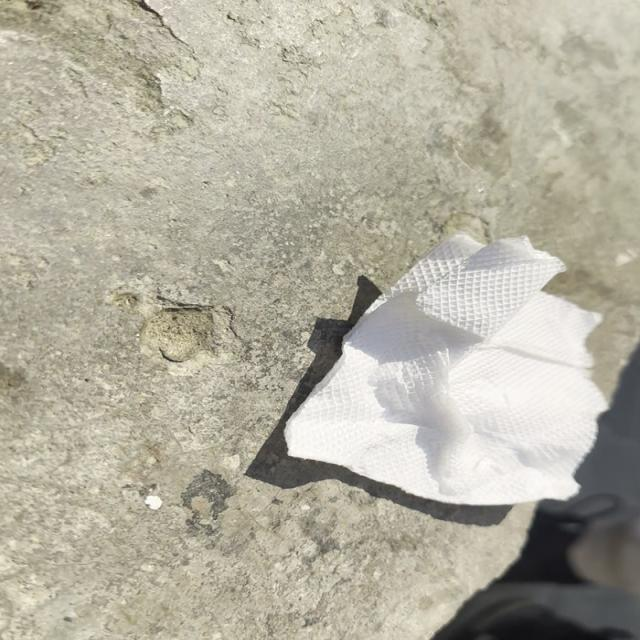tissue: (275, 226, 612, 508)
